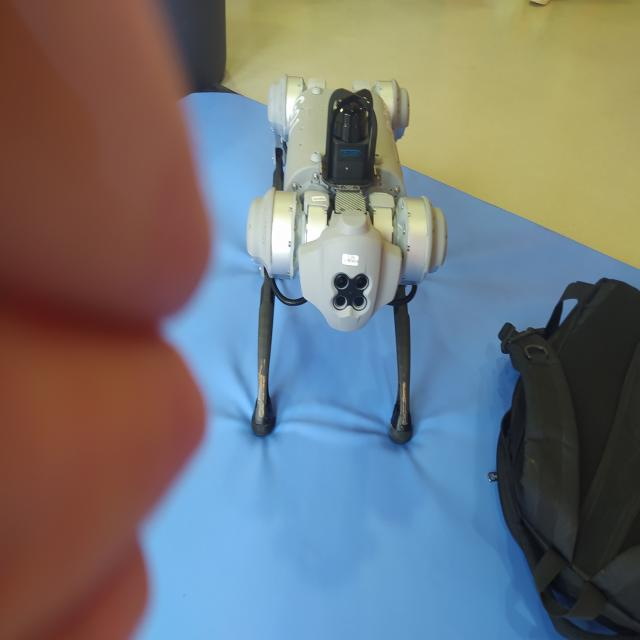unitree-go1-robot: (240, 59, 452, 462)
